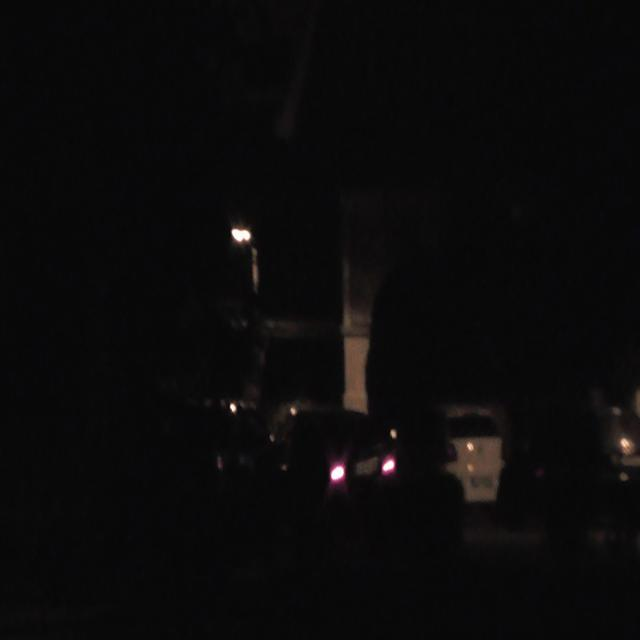Car: (248, 357, 424, 559), (415, 385, 533, 537)
